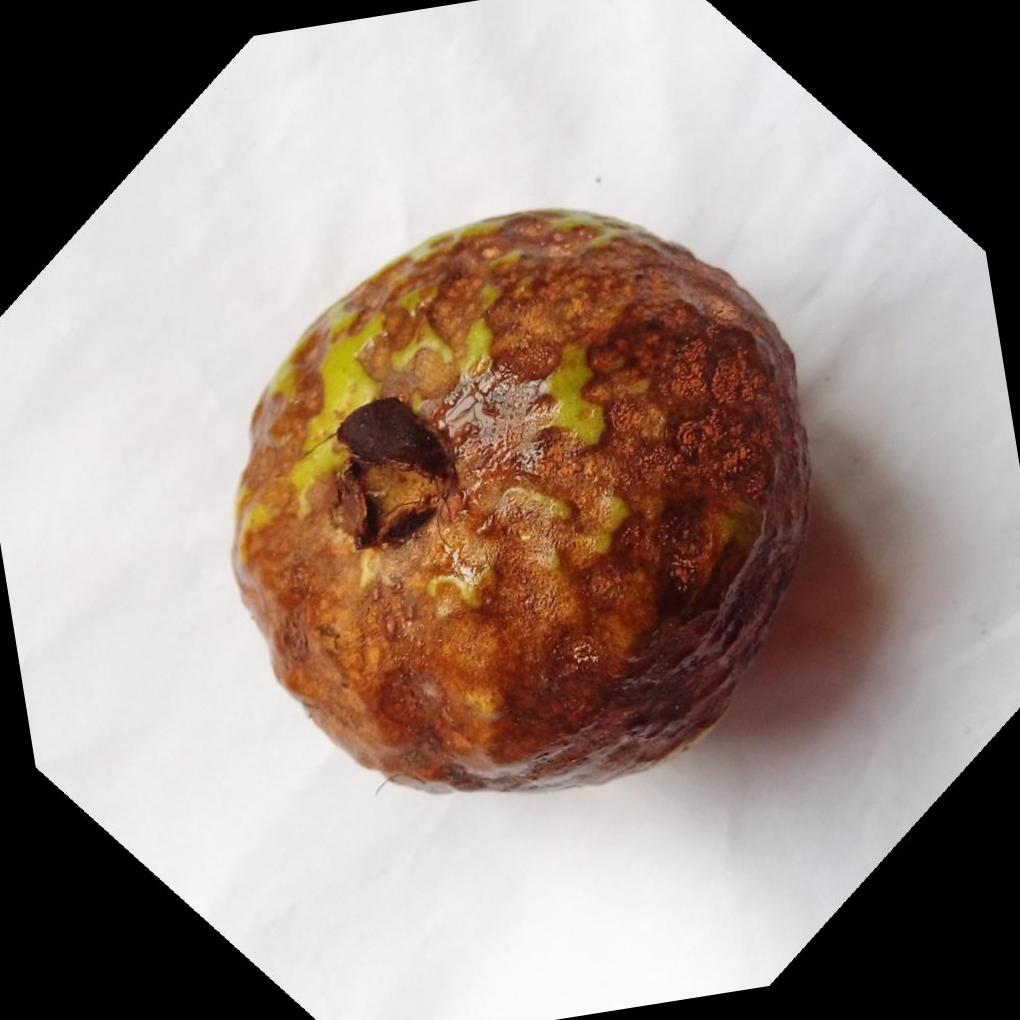FreshOrange: (228, 203, 812, 792)
